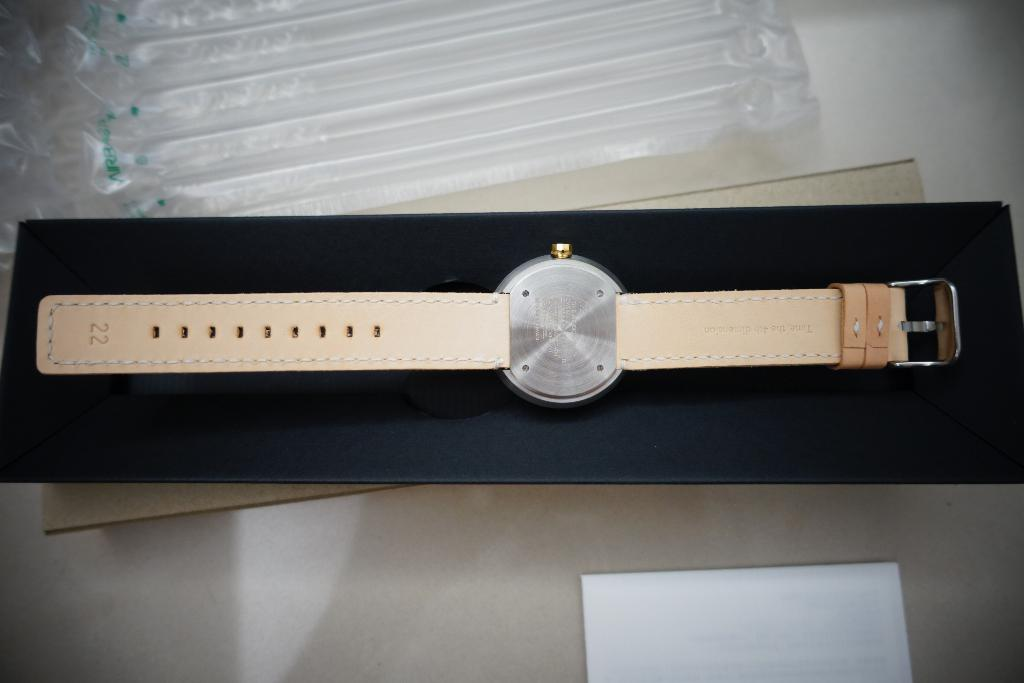watch: (41, 240, 962, 403)
